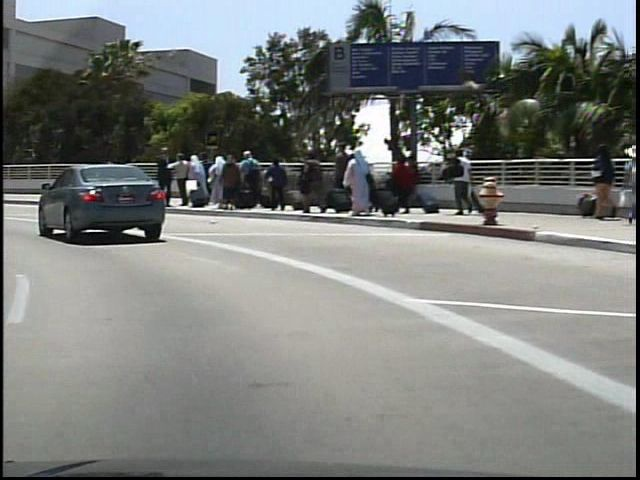person: (578, 139, 615, 223), (444, 144, 471, 220), (97, 150, 125, 212), (149, 144, 173, 211), (168, 150, 188, 210), (110, 154, 130, 196)
